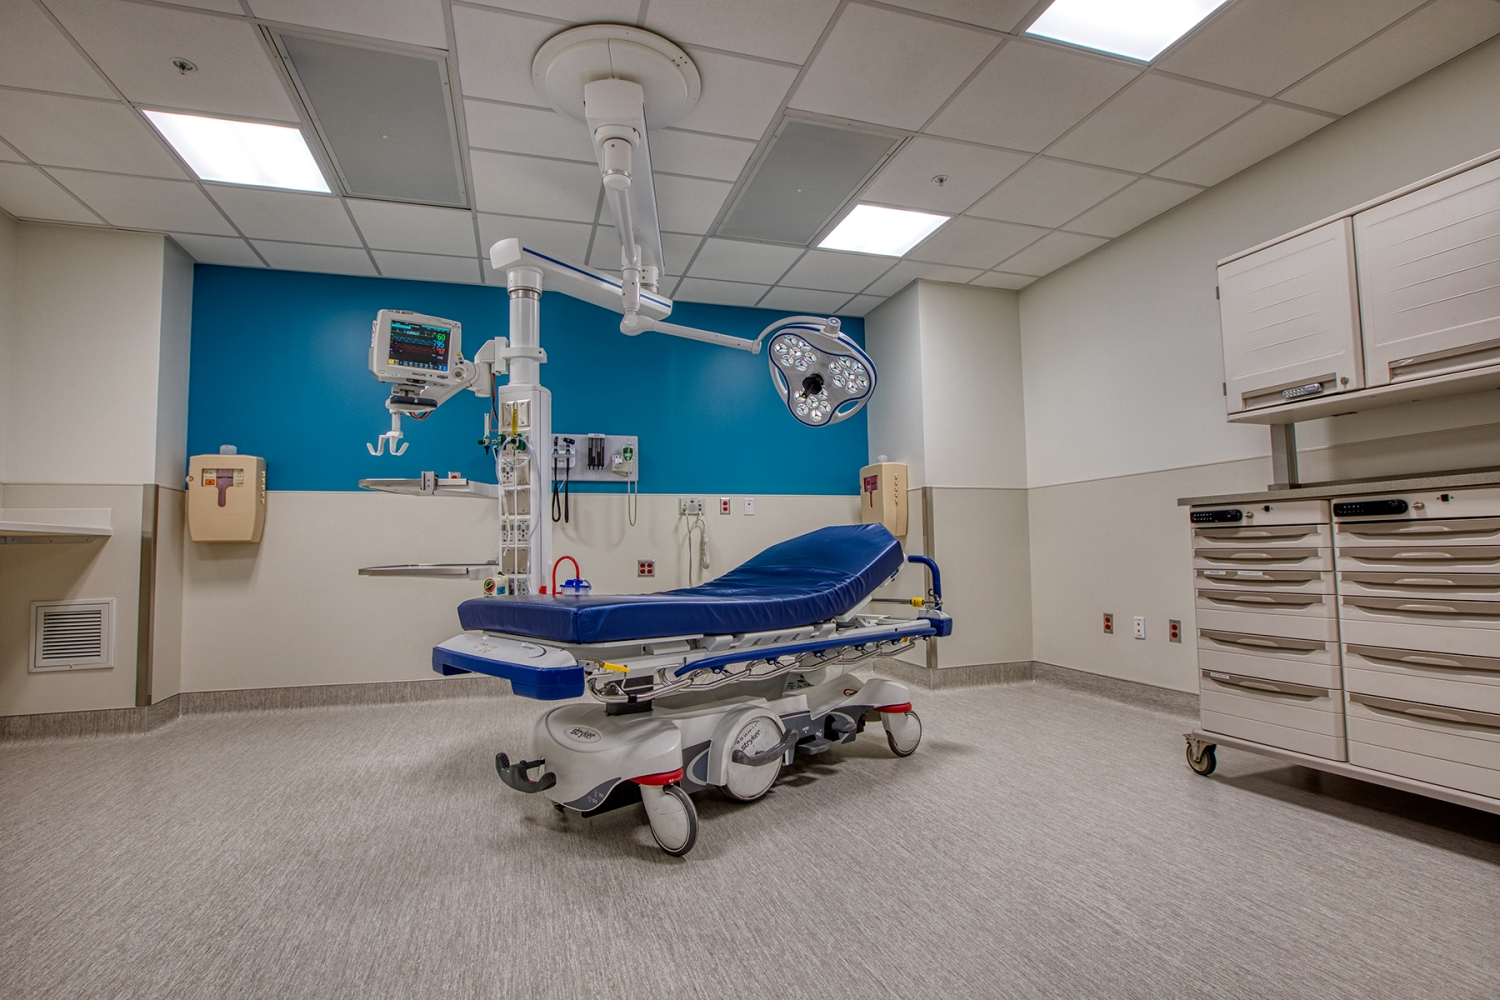bedside_monitor: (364, 309, 467, 391)
cabinet: (1218, 154, 1500, 419)
medical_drawer: (1174, 481, 1500, 830)
medical_waste_container: (183, 441, 267, 548), (858, 451, 913, 544)
operating_bed: (432, 525, 950, 853)
surgical_light: (754, 302, 881, 427)
